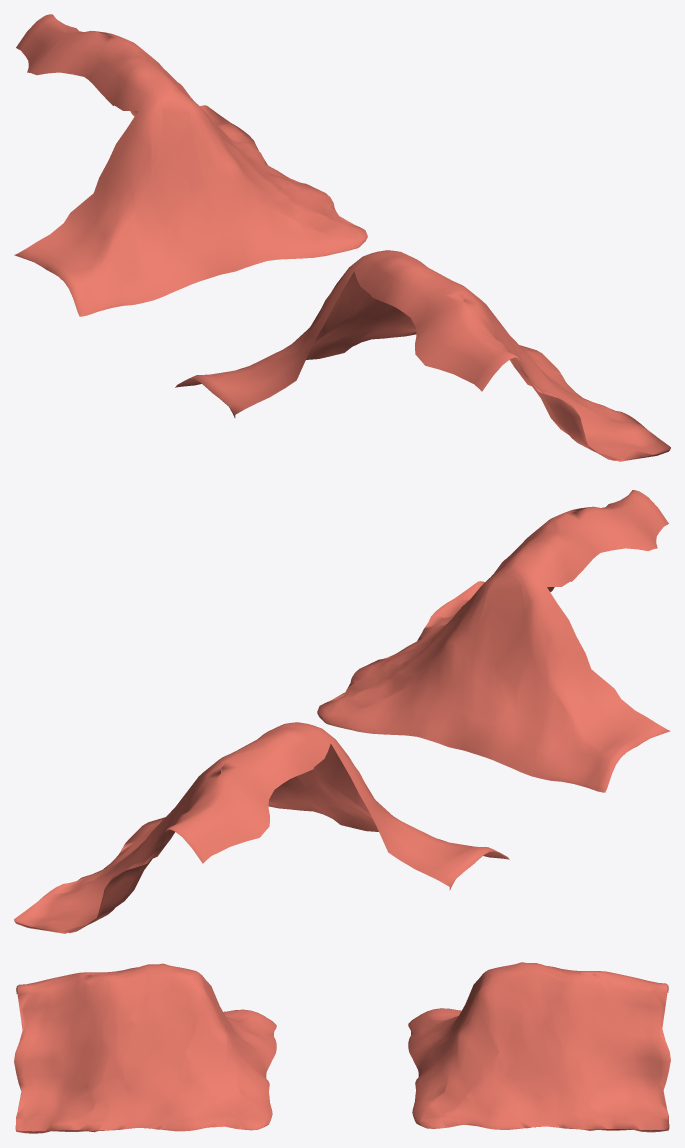
Rendered from montagnes.fbx.
3 views of the same model, one above another, from view 1: azimuth 30°, elevation 25°; view 2: azimuth 150°, elevation 25°; view 3: azimuth 270°, elevation 25° (orthographic). The views are drawn at different scales.
Visible parts, largest first — view 1: Montagne01, Montagne02; view 2: Montagne02, Montagne01; view 3: Montagne02, Montagne01.
Part boxes in pixels (x1=…): Montagne01: x1=14, y1=14, x2=367, y2=316; Montagne02: x1=175, y1=250, x2=670, y2=461; Montagne02: x1=317, y1=490, x2=670, y2=792; Montagne01: x1=14, y1=722, x2=509, y2=933; Montagne02: x1=14, y1=963, x2=276, y2=1133; Montagne01: x1=408, y1=962, x2=670, y2=1132.
Bounding box in the file's own units: 29743 × 14783 × 76952.
